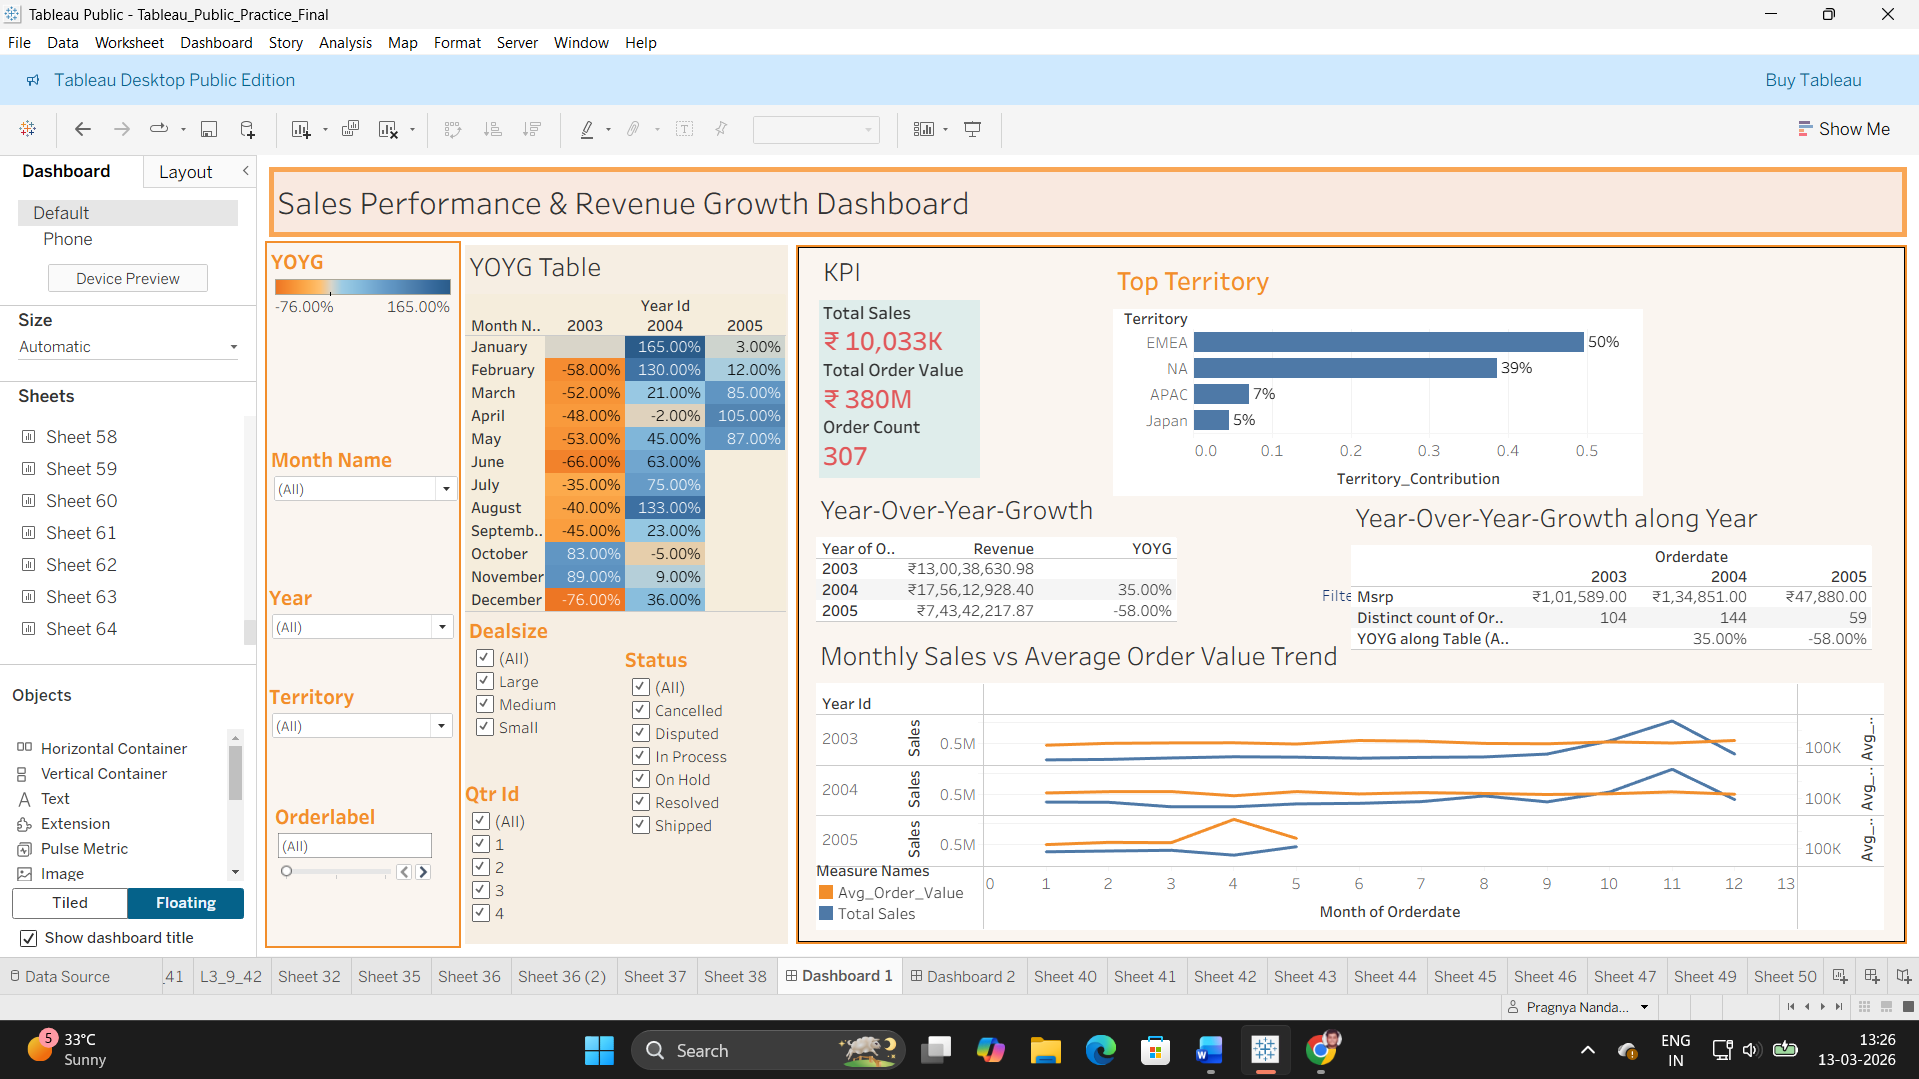

The dashboard page shown, as its layout file describes it:
{"tool":"tableau","page":{"name":"Dashboard 1","canvas":[1000,1000],"units":"permille","ordinal":0},"visuals":[{"type":"title","box":[4.8,10,990.4,97.4]},{"type":"worksheet","title":"Sheet 35","mark":"Square","rows":["MONTH_NAME"],"cols":["YEAR_ID"],"box":[122.5,107.4,199.2,882.6]},{"type":"dashboard-object","param":"[com.tableau.addfilters].[0.0.0].[https://extensions.tableauusercontent.com/sand","box":[321.7,107.4,673.5,882.6]},{"type":"legend","title":"Sheet 35","param":"[federated.0wtqqmt0pq1bgl1bef5ex0yiscwp].[usr:Calculation_0736992708902915:qk:8]","box":[6,109.9,115.3,114.9]},{"type":"worksheet","title":"Sheet 33","mark":"Automatic","box":[338,118.6,108,302.1]},{"type":"worksheet","title":"L3_9_42","mark":"Automatic","rows":["TERRITORY"],"box":[514.8,129.8,319.2,303.4]},{"type":"filter","title":"L3_9_42","param":"[federated.0wtqqmt0pq1bgl1bef5ex0yiscwp].[none:MONTH_NAME:nk]","box":[8.4,362.1,114.1,74.9]},{"type":"worksheet","title":"L3_9_41","mark":"Automatic","rows":["ORDERDATE.1"],"box":[336.2,415.7,258.9,193.5]},{"type":"worksheet","title":"Sheet 34","mark":"Automatic","cols":["Orderdate.1 (copy 2)_0919236749500417"],"box":[658.4,425.7,319.2,232.2]},{"type":"filter","title":"L3_9_42","param":"[federated.0wtqqmt0pq1bgl1bef5ex0yiscwp].[yr:Orderdate.1 (copy 2)_09192367495004","box":[7.2,534.3,112.9,96.1]},{"type":"filter","title":"Sheet 32","param":"[federated.0wtqqmt0pq1bgl1bef5ex0yiscwp].[none:DEALSIZE:nk]","box":[127.3,575.5,96.6,188.5]},{"type":"worksheet","title":"Sheet 32","mark":"Automatic","rows":["YEAR_ID","SALES","Calculation_3219964429791232"],"cols":["Orderdate.1 (copy 2)_0919236749500417"],"box":[336.2,598,643.3,369.5]},{"type":"filter","title":"Sheet 32","param":"[federated.0wtqqmt0pq1bgl1bef5ex0yiscwp].[none:STATUS:nk]","box":[221.5,611.7,96.6,255.9]},{"type":"filter","title":"L3_9_42","param":"[federated.0wtqqmt0pq1bgl1bef5ex0yiscwp].[none:TERRITORY:nk]","box":[7.2,657.9,112.2,87.4]},{"type":"filter","title":"Sheet 32","param":"[federated.0wtqqmt0pq1bgl1bef5ex0yiscwp].[none:QTR_ID:ok]","box":[124.9,779,96.6,192.3]},{"type":"filter","title":"Sheet 32","param":"[federated.0wtqqmt0pq1bgl1bef5ex0yiscwp].[none:ORDERLABEL:nk]","box":[10.9,807.7,96.6,147.3]},{"type":"legend","title":"Sheet 32","param":"[federated.0wtqqmt0pq1bgl1bef5ex0yiscwp].[:Measure Names]","box":[336.2,880.1,122.5,94.9]}]}

Visuals, with their boxes on the dashboard's canvas, which has no fixed pixel size, in thousandths of its width and height (x1, y1, x2, y2). These are canvas units, not pixel positions in the 1919x1079 screenshot, which may show the page scaled, cropped or inside an application window:
title: (left=5, top=10, right=995, bottom=107)
"Sheet 35" worksheet (Square marks): (left=122, top=107, right=322, bottom=990)
dashboard-object: (left=322, top=107, right=995, bottom=990)
"Sheet 35" legend: (left=6, top=110, right=121, bottom=225)
"Sheet 33" worksheet: (left=338, top=119, right=446, bottom=421)
"L3_9_42" worksheet: (left=515, top=130, right=834, bottom=433)
"L3_9_42" filter: (left=8, top=362, right=122, bottom=437)
"L3_9_41" worksheet: (left=336, top=416, right=595, bottom=609)
"Sheet 34" worksheet: (left=658, top=426, right=978, bottom=658)
"L3_9_42" filter: (left=7, top=534, right=120, bottom=630)
"Sheet 32" filter: (left=127, top=576, right=224, bottom=764)
"Sheet 32" worksheet: (left=336, top=598, right=980, bottom=968)
"Sheet 32" filter: (left=222, top=612, right=318, bottom=868)
"L3_9_42" filter: (left=7, top=658, right=119, bottom=745)
"Sheet 32" filter: (left=125, top=779, right=222, bottom=971)
"Sheet 32" filter: (left=11, top=808, right=108, bottom=955)
"Sheet 32" legend: (left=336, top=880, right=459, bottom=975)
